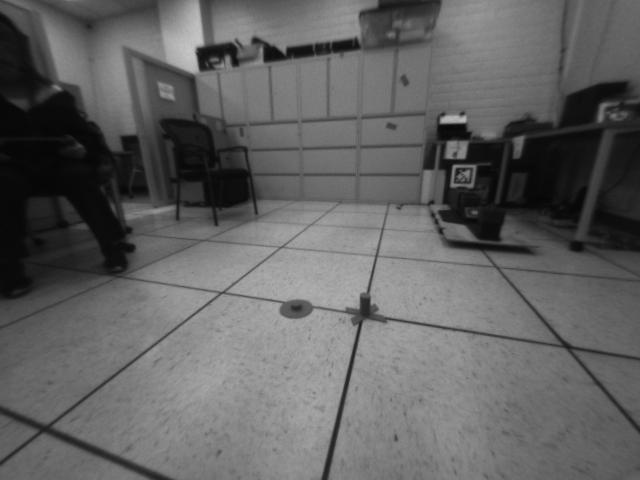X: (344, 292, 389, 327)
